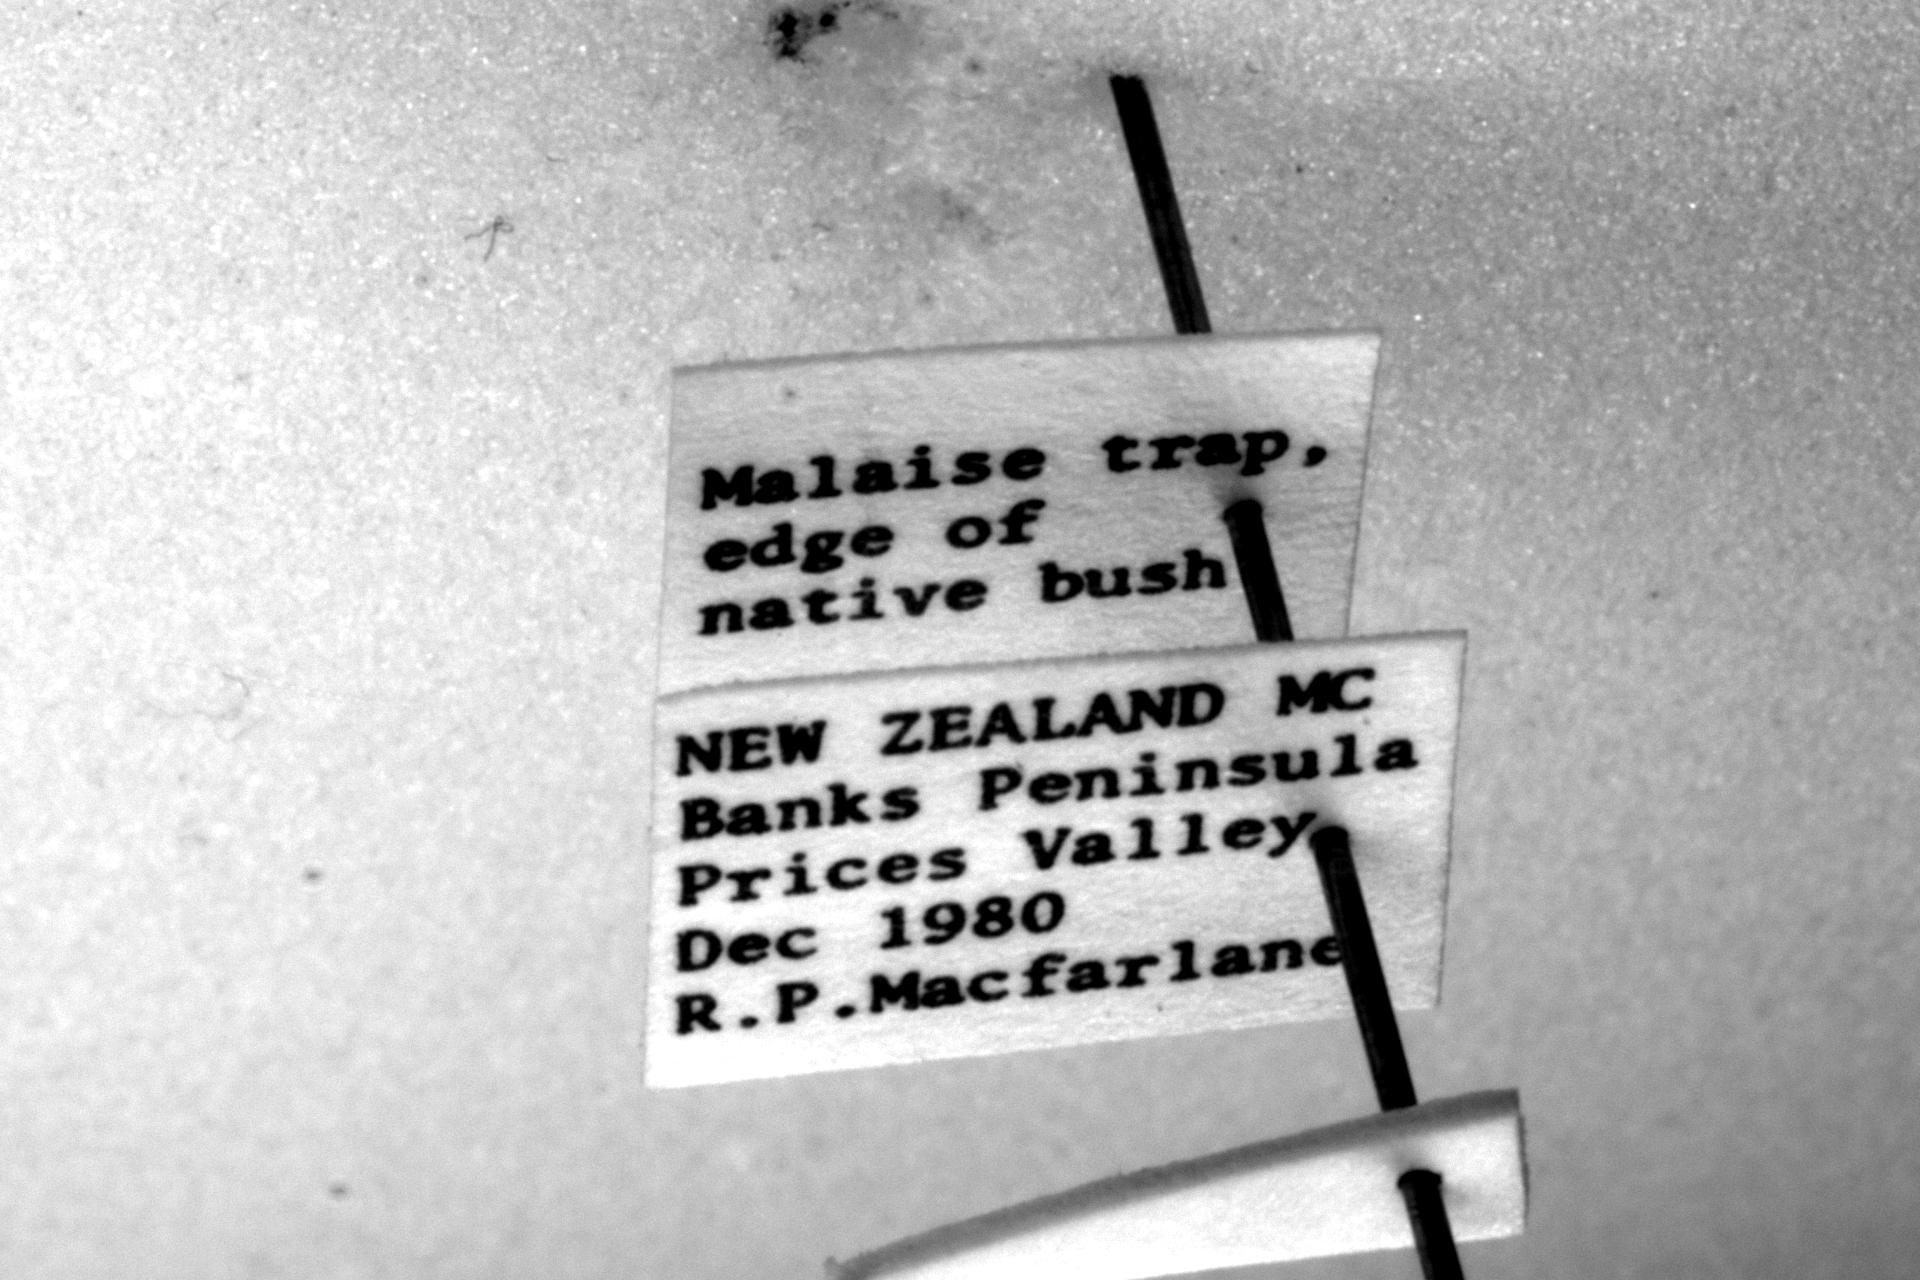typed_label: (646, 634, 1466, 1087), (660, 334, 1380, 694)
